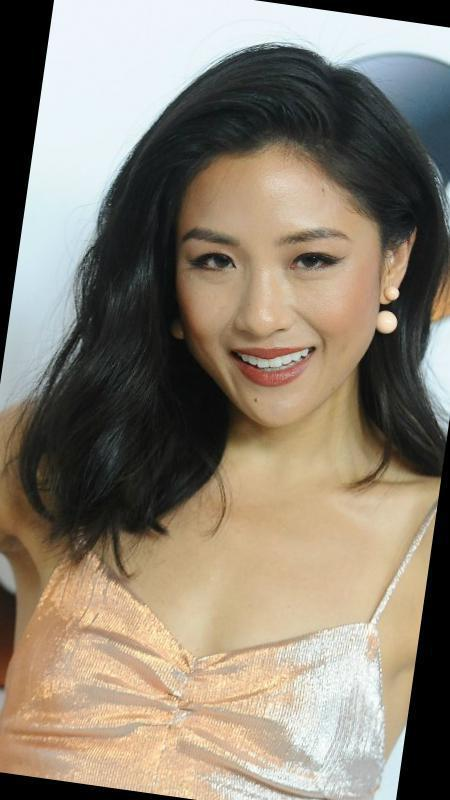Sober: (189, 165, 364, 413)
